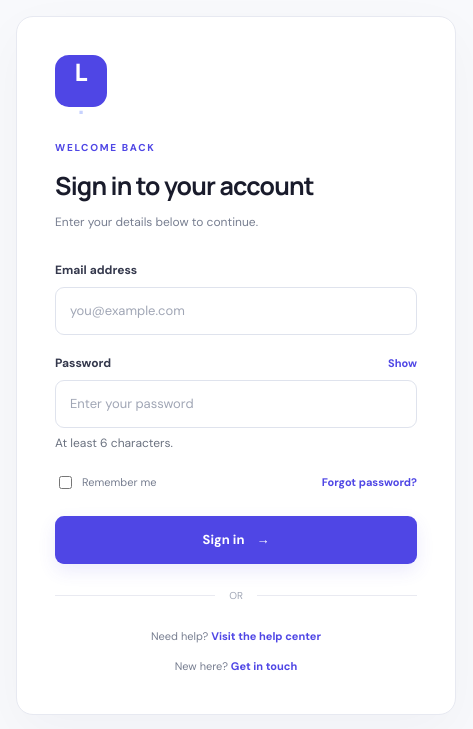
Test: Login page › rejects an invalid email address
Type "not-an-email" into the field labelled "Email address" at (236, 311), box 55,287 -> 417,335
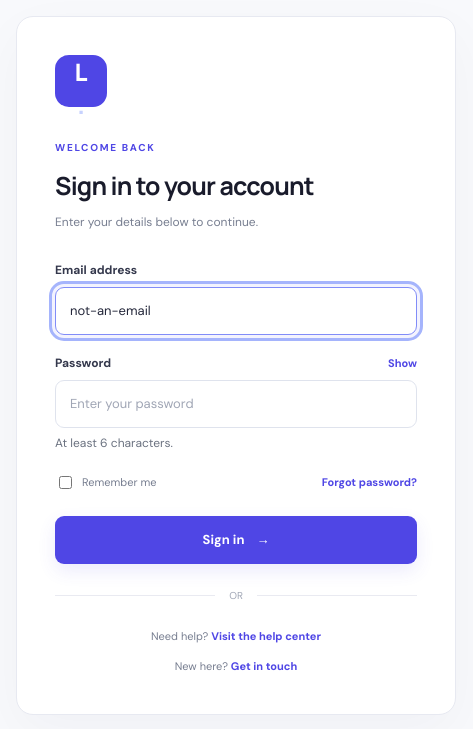
Type "secret123" into the password field labelled "Password" at (236, 404), box 55,380 -> 417,428
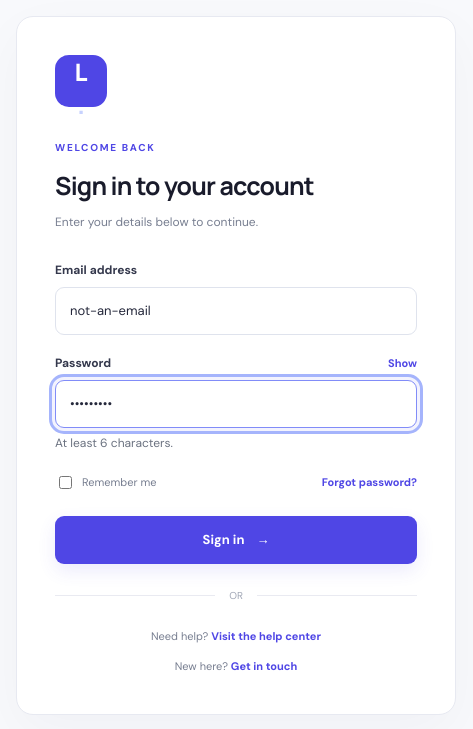
Click the button "Sign in →" at (236, 540), box 55,516 -> 417,564
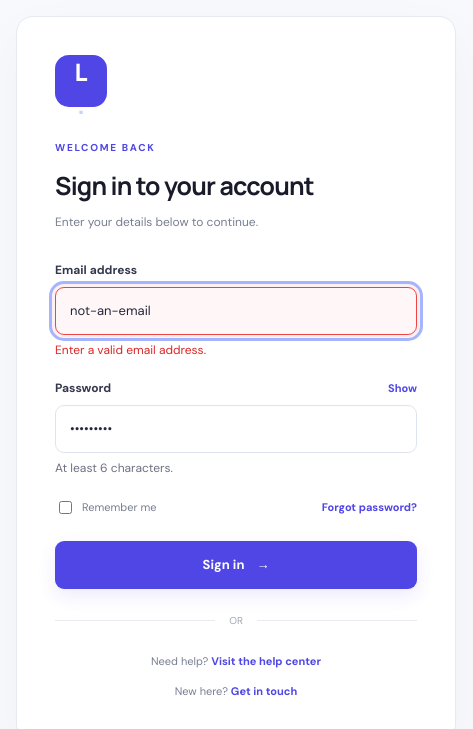
Result: the text "Enter a valid email address." is shown at 55,342 -> 206,358
